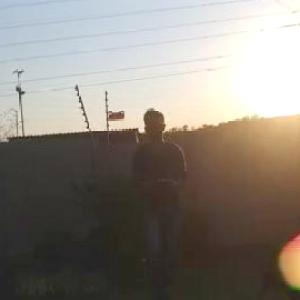follow: (126, 102, 196, 299)
